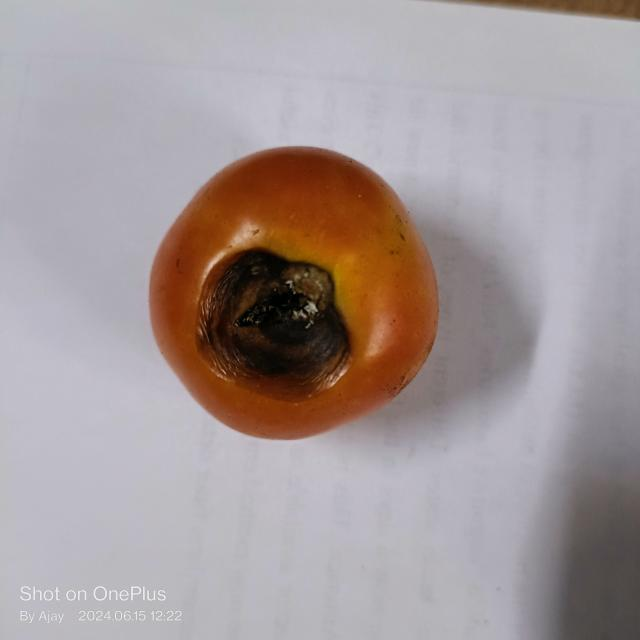Anthrocnose: (193, 246, 351, 404)
